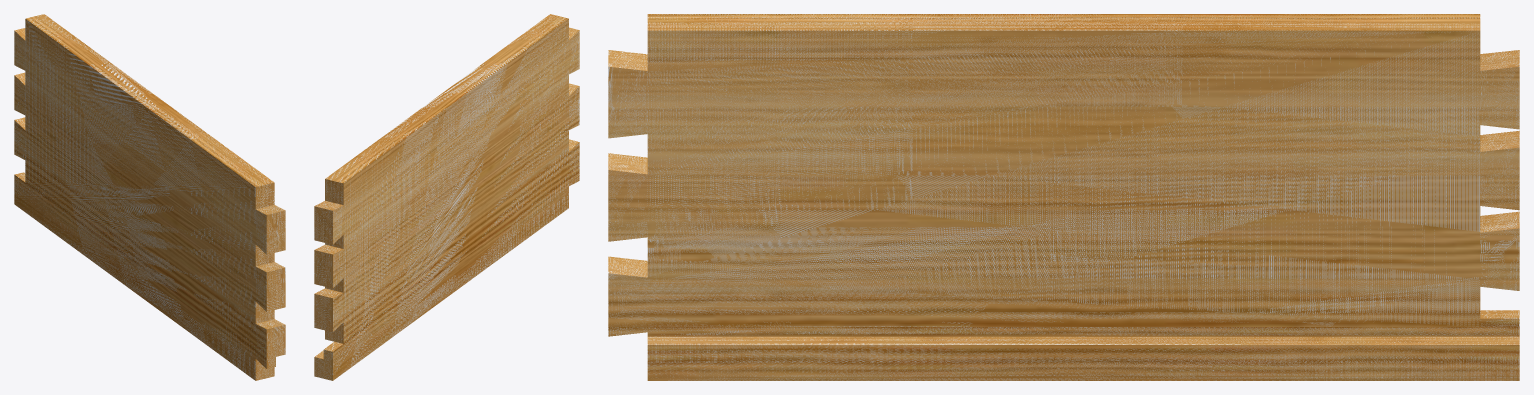
The model's file is original-6.obj.
3 views of the same model, side by side, from view 1: azimuth 30°, elevation 25°; view 2: azimuth 150°, elevation 25°; view 3: azimuth 270°, elevation 25° (orthographic). The views are drawn at different scales.
Visible parts, largest first — view 1: Left_Drawer_Side/Drawer_Side1/mesh4/mesh4-geometry#mesh4-geometr; view 2: Left_Drawer_Side/Drawer_Side1/mesh4/mesh4-geometry#mesh4-geometr; view 3: Left_Drawer_Side/Drawer_Side1/mesh4/mesh4-geometry#mesh4-geometr.
Boxes of the visible parts, x1,y1,x2,y2 form: Left_Drawer_Side/Drawer_Side1/mesh4/mesh4-geometry#mesh4-geometr: [14, 14, 285, 380]; Left_Drawer_Side/Drawer_Side1/mesh4/mesh4-geometry#mesh4-geometr: [314, 14, 579, 380]; Left_Drawer_Side/Drawer_Side1/mesh4/mesh4-geometry#mesh4-geometr: [608, 14, 1519, 380].
Bounding box in the file's own units: 0.0201 × 0.1955 × 0.4611.
